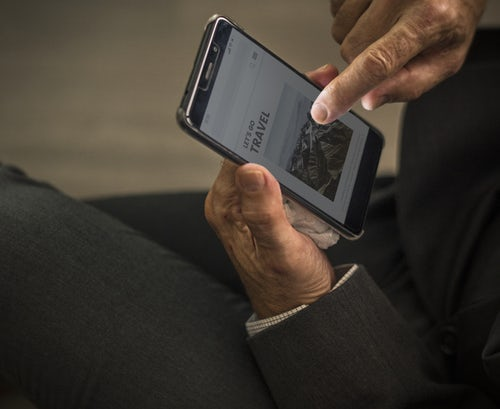phone: (172, 14, 389, 245)
